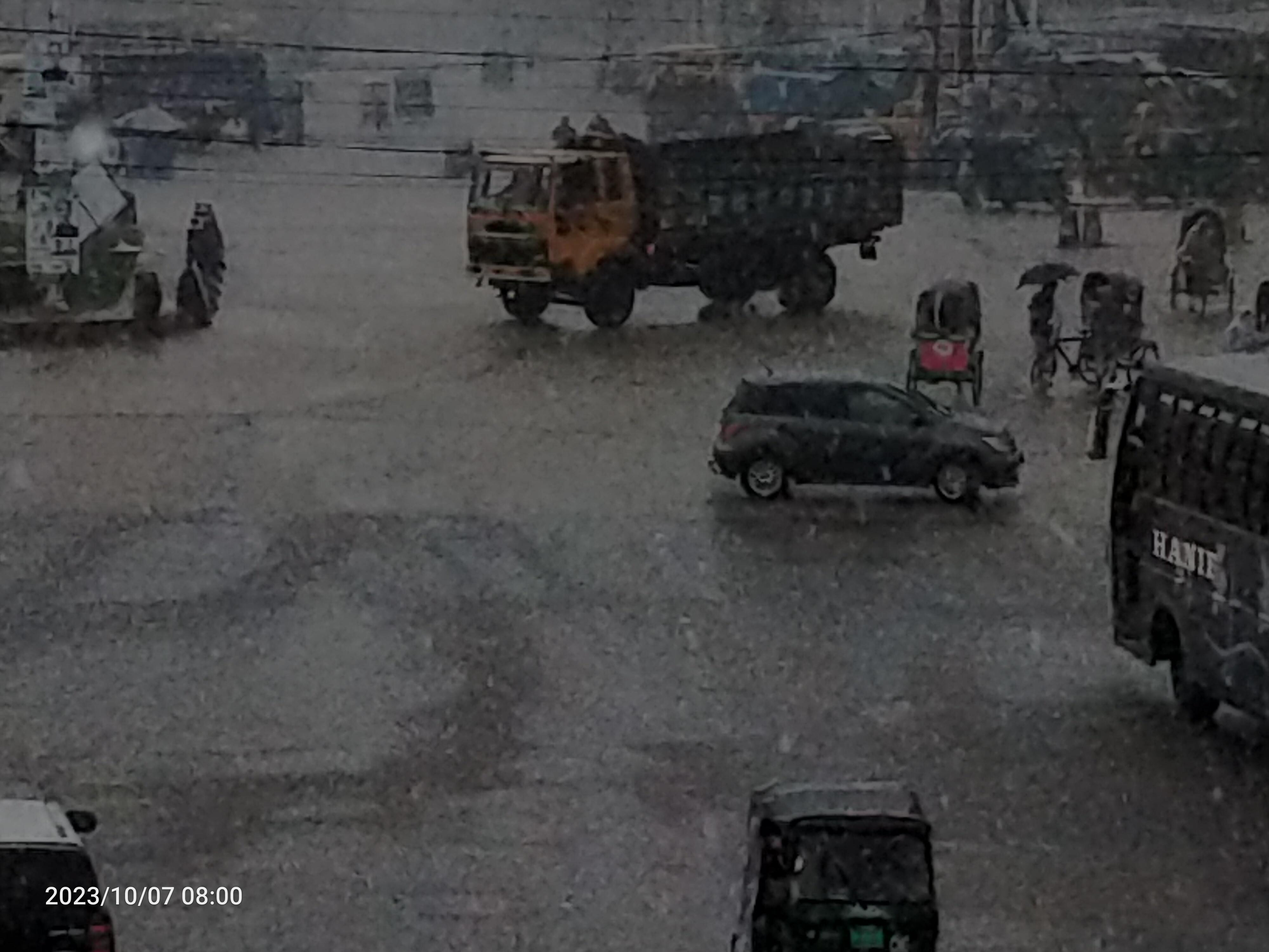Bus: (1086, 347, 1269, 731), (57, 27, 275, 139)
Car: (696, 340, 1041, 547), (0, 749, 155, 952), (1024, 267, 1168, 411), (893, 270, 1014, 417), (1162, 188, 1266, 332)
Truck: (418, 93, 916, 362)
